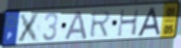3: (42, 12, 59, 42)
A: (136, 5, 162, 38), (63, 9, 89, 41)
H: (116, 7, 141, 38)
R: (89, 9, 113, 39)
X: (16, 11, 43, 43)
